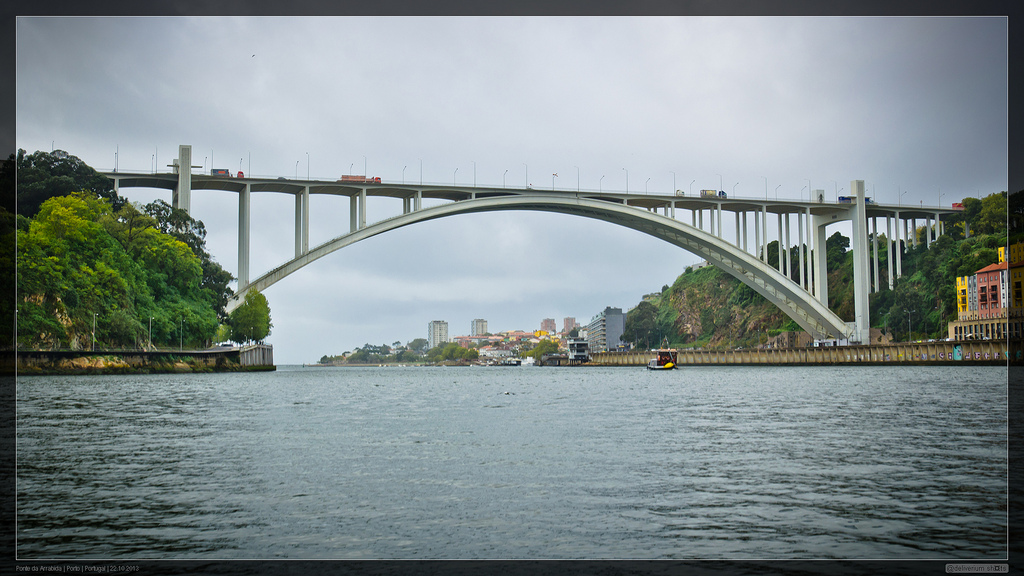arrabida: (84, 143, 979, 346)
